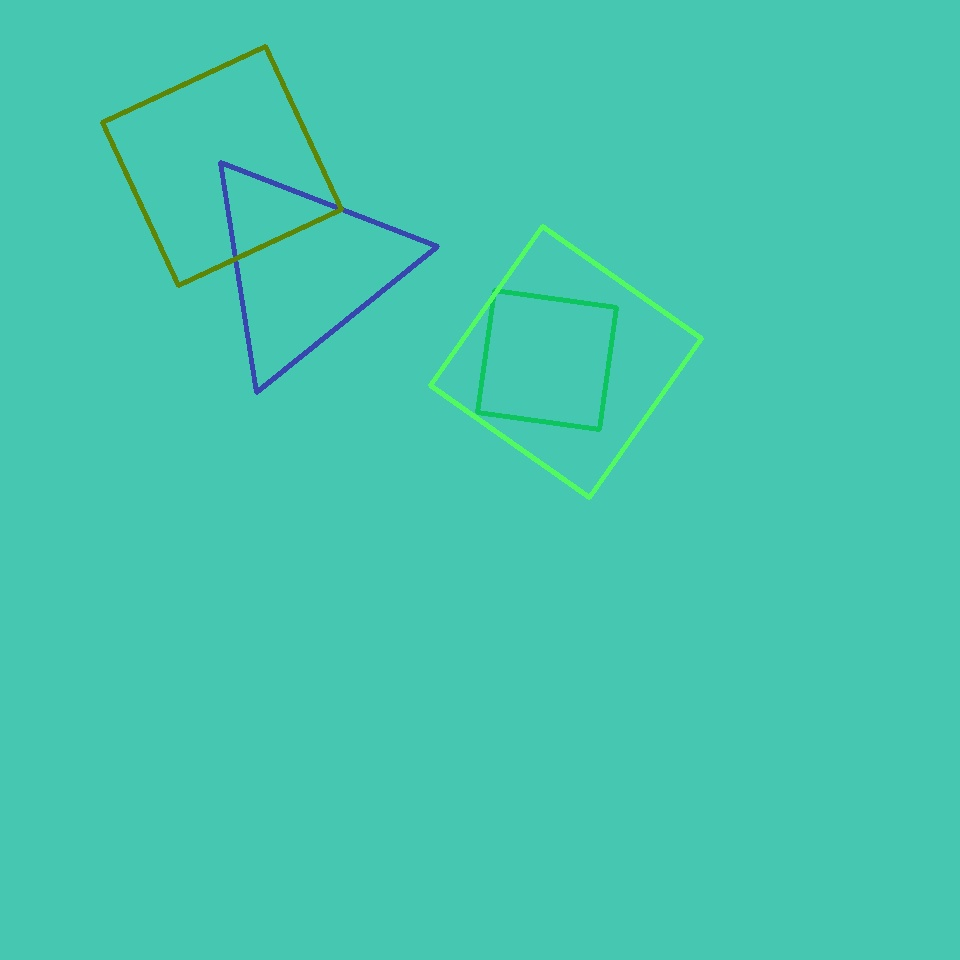circle: (196, 152, 414, 382)
square: (431, 226, 702, 497), (103, 46, 342, 286), (478, 290, 616, 430)
